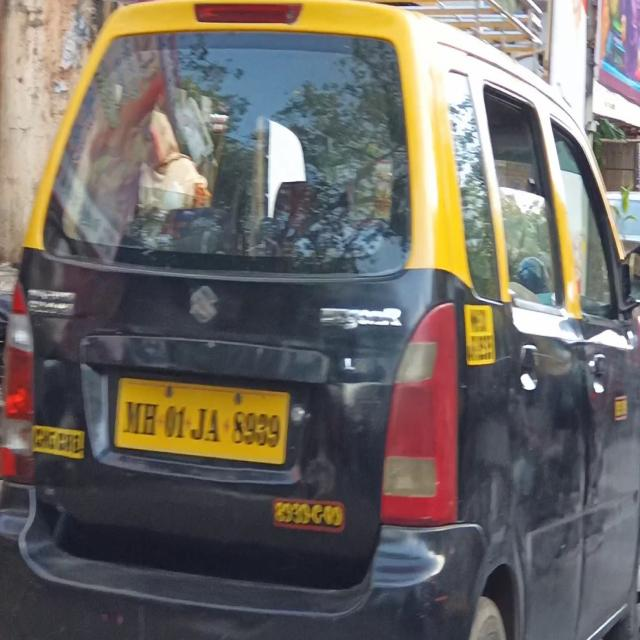Plate: (115, 377, 290, 466)
